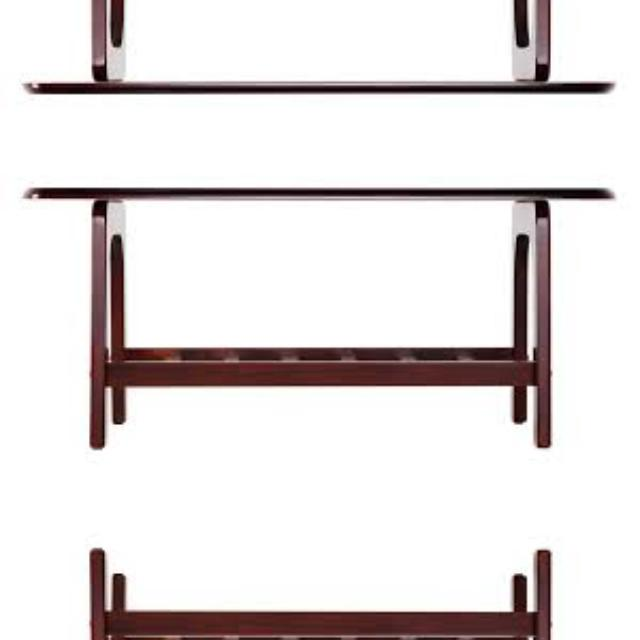obstacle: (14, 144, 628, 460), (14, 0, 628, 135), (14, 536, 628, 640)
